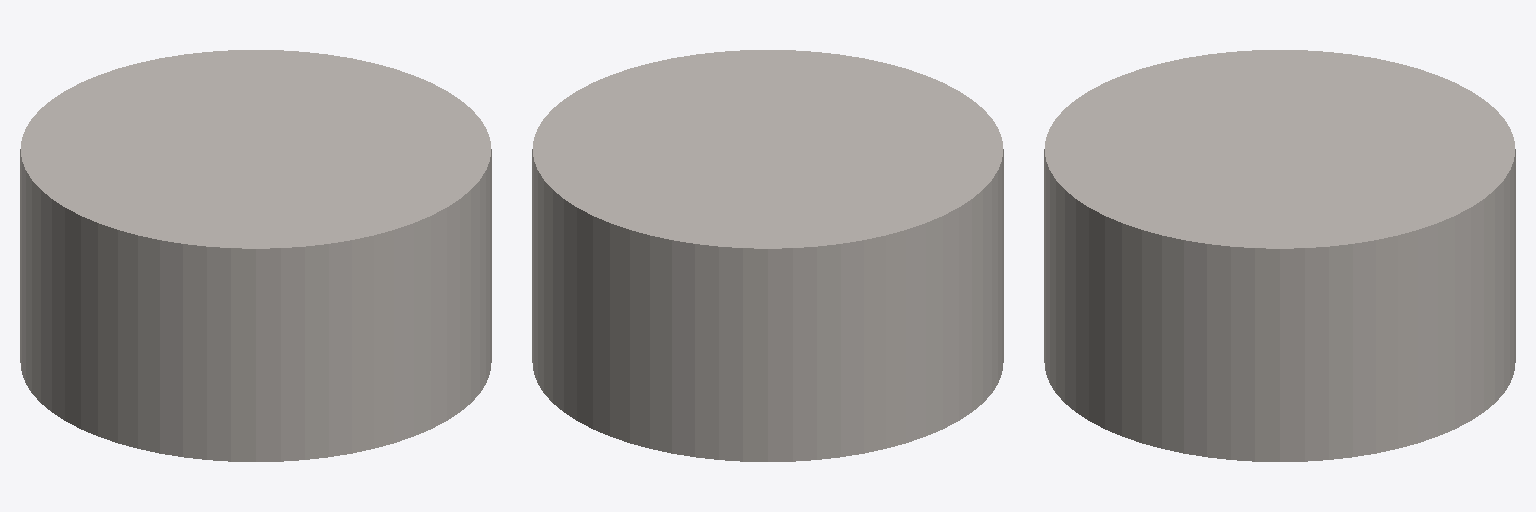
The robot description file, URDF, robot "camera_tray":
<?xml version="1.0" encoding="utf-8"?>
<!-- This URDF was automatically created by SolidWorks to URDF Exporter! Originally created by Stephen Brawner (brawner@gmail.com) 
     Commit Version: 1.6.0-4-g7f85cfe  Build Version: 1.6.7995.38578
     For more information, please see http://wiki.ros.org/sw_urdf_exporter -->
<robot
  name="camera_tray">
  <link
    name="camera_fix">
    <inertial>
      <origin
        xyz="0.00093904 -0.0072336 0.013727"
        rpy="0 0 0" />
      <mass
        value="0.65552" />
      <inertia
        ixx="0.00019435"
        ixy="7.7148E-06"
        ixz="-3.2724E-06"
        iyy="0.00042405"
        iyz="-2.4049E-06"
        izz="0.00059504" />
    </inertial>
    <visual>
      <origin
        xyz="0 0 0"
        rpy="0 0 0" />
      <geometry>
        <mesh
          filename="package://camera_tray/meshes/camera_fix.STL" />
      </geometry>
      <material
        name="">
        <color
          rgba="0.79216 0.81961 0.93333 1" />
      </material>
    </visual>
    <collision>
      <origin
        xyz="0 0 0"
        rpy="0 0 0" />
      <geometry>
        <mesh
          filename="package://camera_tray/meshes/camera_fix.STL" />
      </geometry>
    </collision>
  </link>
  <link
    name="view">
    <inertial>
      <origin
        xyz="-2.6597E-19 4.3368E-19 -0.0025"
        rpy="0 0 0" />
      <mass
        value="0.0030238" />
      <inertia
        ixx="2.5198E-08"
        ixy="-2.4654E-40"
        ixz="-2.3245E-40"
        iyy="2.5198E-08"
        iyz="-1.7264E-40"
        izz="3.7797E-08" />
    </inertial>
    <visual>
      <origin
        xyz="0 0 0"
        rpy="0 0 0" />
      <geometry>
        <mesh
          filename="package://camera_tray/meshes/view.STL" />
      </geometry>
      <material
        name="">
        <color
          rgba="0.77647 0.75686 0.73725 1" />
      </material>
    </visual>
    <collision>
      <origin
        xyz="0 0 0"
        rpy="0 0 0" />
      <geometry>
        <mesh
          filename="package://camera_tray/meshes/view.STL" />
      </geometry>
    </collision>
  </link>
  <joint
    name="view"
    type="fixed">
    <origin
      xyz="0.0015 -0.00634 0.03162"
      rpy="0 0 3.1416" />
    <parent
      link="camera_fix" />
    <child
      link="view" />
    <axis
      xyz="0 0 0" />
  </joint>
</robot>

--- Render facts (derived) ---
Views: 3 orthographic renders of the robot side by side, from view 1: azimuth 30°, elevation 25°; view 2: azimuth 150°, elevation 25°; view 3: azimuth 270°, elevation 25°.
Model camera_tray with 2 links and 1 joints (1 fixed), rooted at camera_fix, posed every joint at zero.
Visible links, largest first — view 1: view; view 2: view; view 3: view.
Link boxes in pixels (x1,y1,x2,y2): view: [20, 50, 491, 461]; view: [532, 50, 1003, 461]; view: [1044, 50, 1515, 461].
Size in the robot's own frame: 0.01 by 0.01 by 0.005 metres.
1 mesh visuals loaded from 2 distinct referenced files (1 binary STL); not drawn: 1 (reference not matched to a file when rendering).
